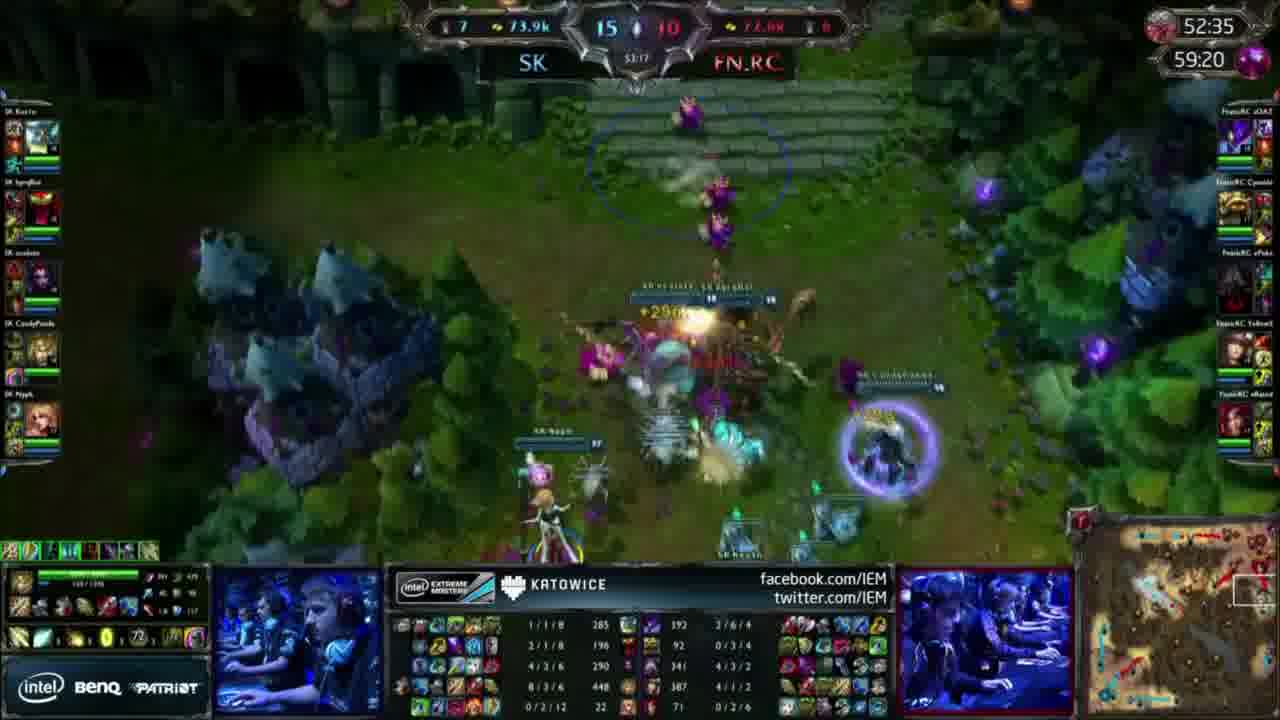bar: (625, 284, 729, 307), (852, 379, 950, 402), (509, 432, 609, 452), (682, 291, 782, 309)
